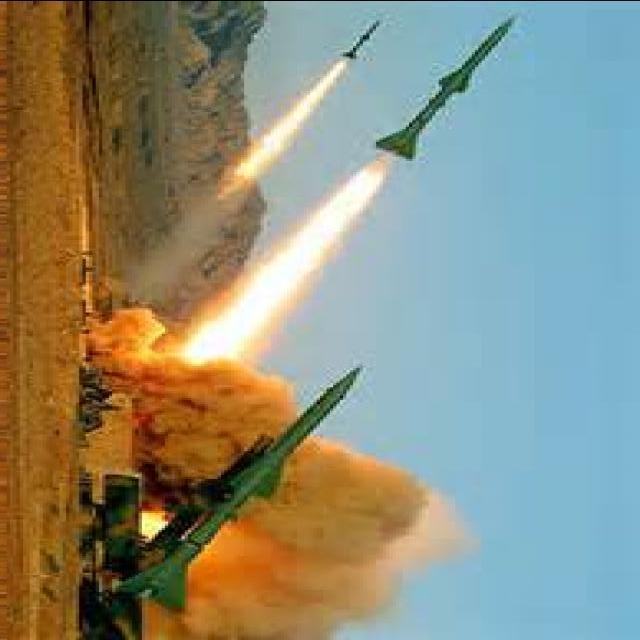missile: (140, 360, 365, 607), (381, 14, 518, 156), (341, 14, 387, 58)
